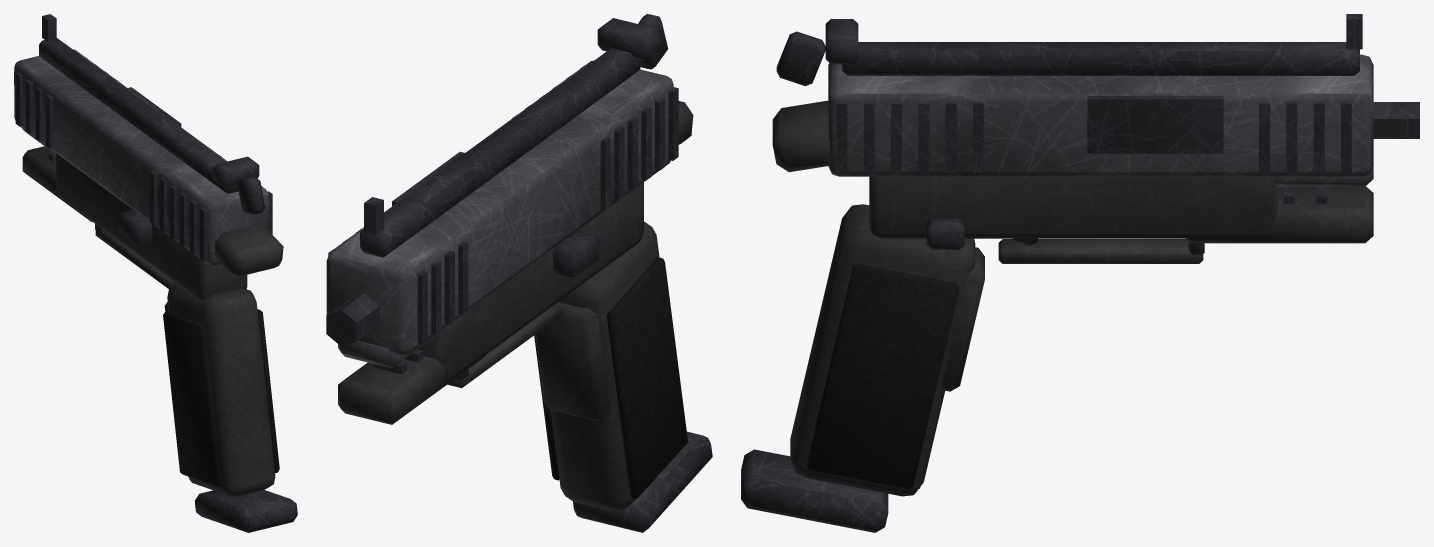
The model's file is pistol.glb.
3 renders of one model, left to right at view 1: azimuth 30°, elevation 25°; view 2: azimuth 150°, elevation 25°; view 3: azimuth 270°, elevation 25°, orthographic. The views are drawn at different scales.
Visible parts, largest first — view 1: body, slide; view 2: slide, body; view 3: body, slide.
Boxes of the visible parts, x1,y1,x2,y2 form: body: (22,146,297,532); slide: (14,14,272,265); slide: (326,18,678,368); body: (338,14,712,532); body: (741,31,1373,532); slide: (825,14,1419,186).
Size of the model in its own units: 0.045 by 0.2029 by 0.249.
Materials: 4 (4 with a texture image).
